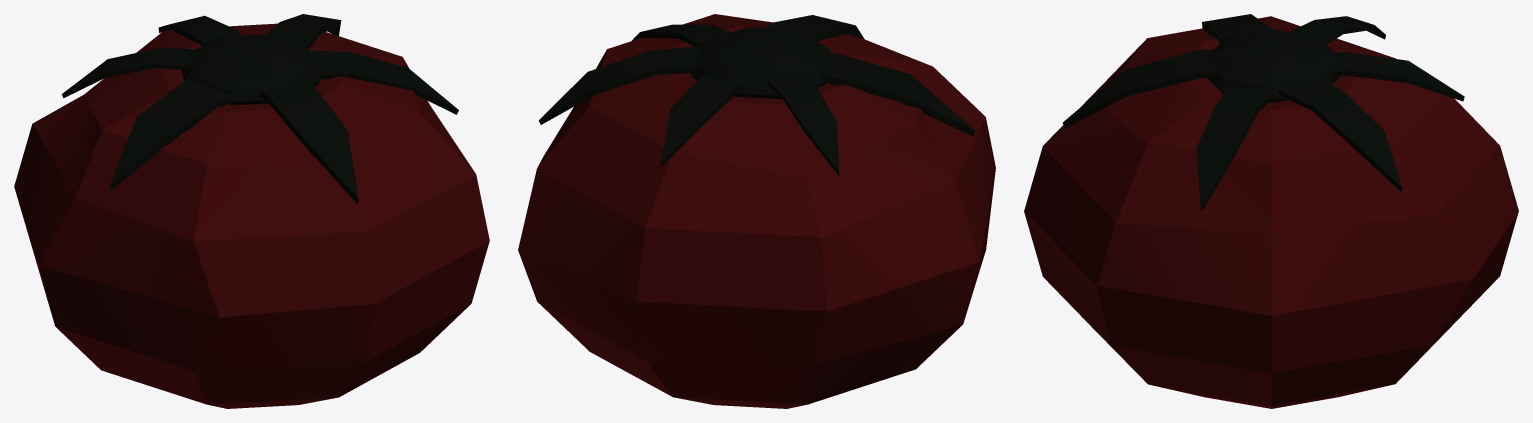
File: _oodTomato.fbx
The picture shows the model from 3 angles, left to right: view 1: azimuth 30°, elevation 25°; view 2: azimuth 150°, elevation 25°; view 3: azimuth 270°, elevation 25°; orthographic projection. The views are drawn at different scales.
Parts seen in each view (by area): view 1: polySurface221; view 2: polySurface221; view 3: polySurface221.
Boxes of the visible parts, x1,y1,x2,y2 form: polySurface221: [14, 14, 489, 408]; polySurface221: [518, 14, 995, 408]; polySurface221: [1024, 14, 1518, 408].
Size of the model in its own units: 25.24 by 18.21 by 25.24.
